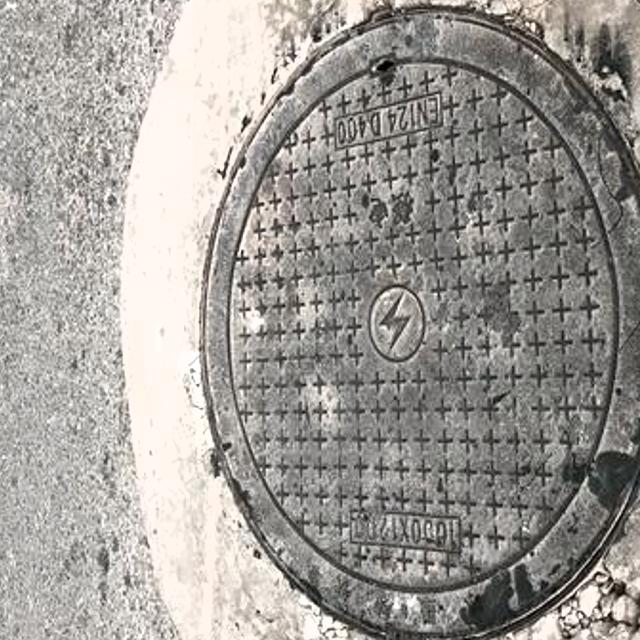circle: (124, 0, 640, 640)
